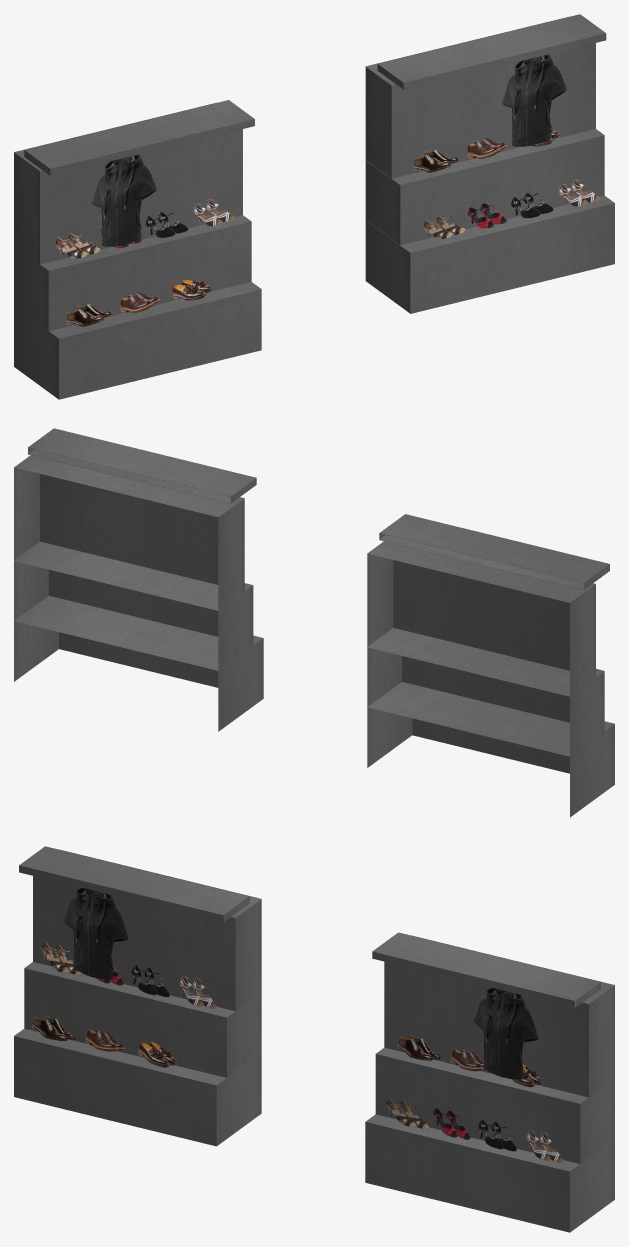
3 renders of one model, top to bottom at view 1: azimuth 30°, elevation 25°; view 2: azimuth 150°, elevation 25°; view 3: azimuth 330°, elevation 25°, orthographic.
Visible parts, largest first — view 1: sd_11; view 2: sd_11; view 3: sd_11.
Boxes of the visible parts, x1,y1,x2,y2 form: sd_11: [14, 14, 614, 399]; sd_11: [14, 428, 614, 817]; sd_11: [14, 846, 614, 1232].
Bounding box in the file's own units: 25.43 × 3.56 × 9.85.
Materials: 1 (1 with a texture image).
